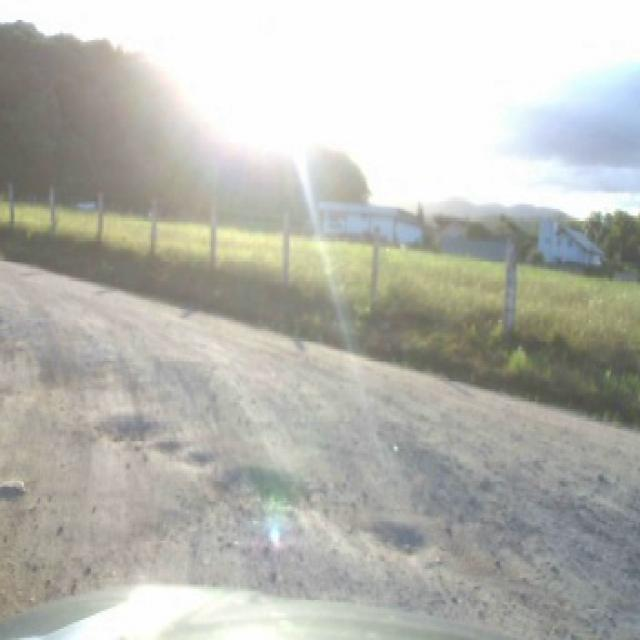Poth-hole: (213, 462, 311, 509), (364, 516, 429, 560), (100, 411, 162, 440), (0, 475, 25, 493), (152, 438, 180, 451), (185, 452, 213, 464)
